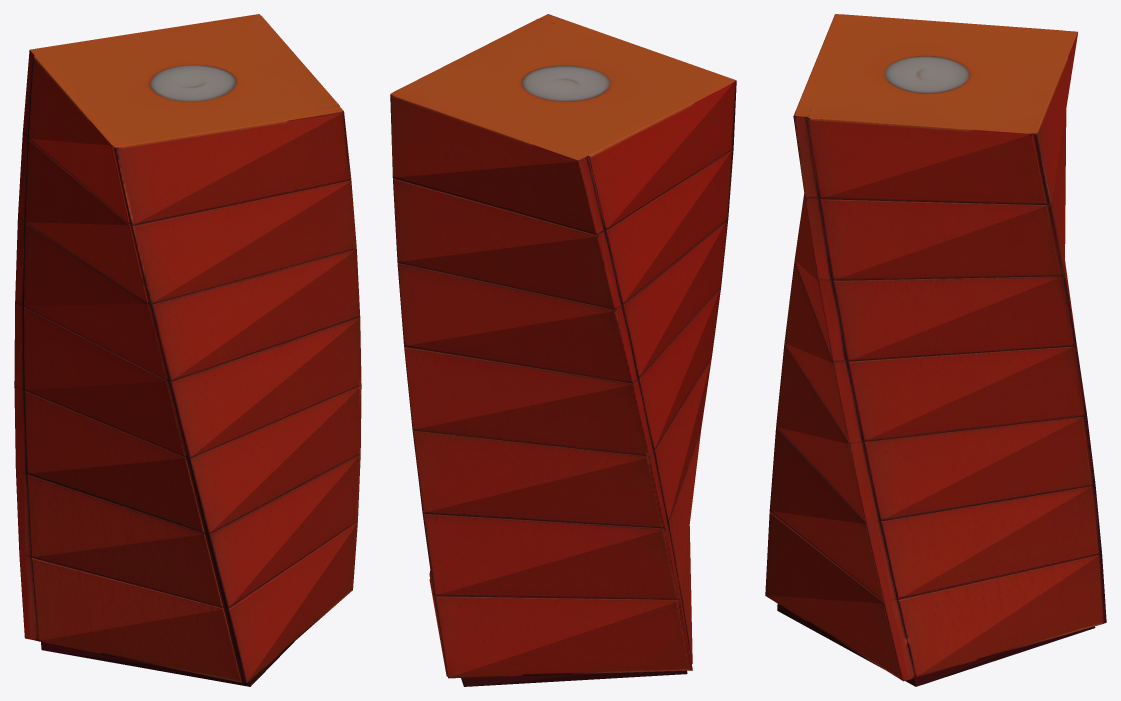
File: edited_mesh.glb
The picture shows the model from 3 angles, left to right: view 1: azimuth 30°, elevation 25°; view 2: azimuth 150°, elevation 25°; view 3: azimuth 270°, elevation 25°; orthographic projection.
Parts seen in each view (by area): view 1: normalized_model.obj; view 2: normalized_model.obj; view 3: normalized_model.obj.
Boxes of the visible parts, <box> form: normalized_model.obj: <box>14,14,361,686</box>; normalized_model.obj: <box>390,14,736,686</box>; normalized_model.obj: <box>765,14,1106,686</box>.
Bounding box in the file's own units: 0.8834 × 1.56 × 0.8848.
1 material, 1 textured.
